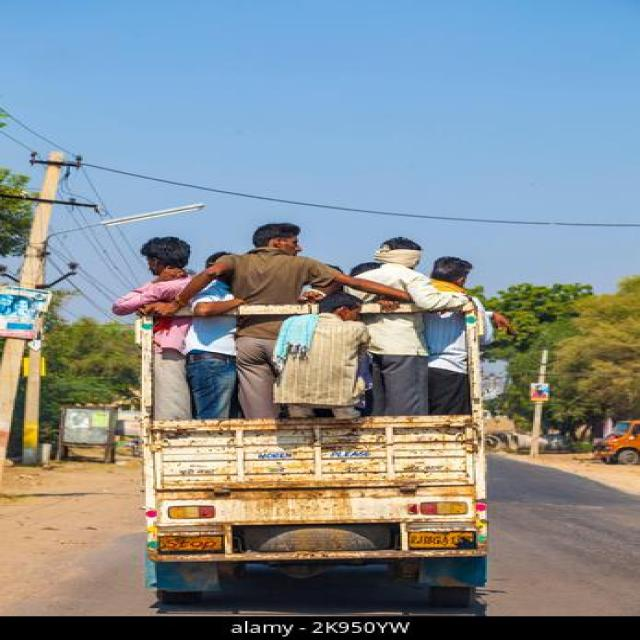normal_truck: (138, 312, 484, 591), (235, 305, 315, 316), (362, 304, 420, 314)
overloaded_truck: (113, 222, 482, 419)
